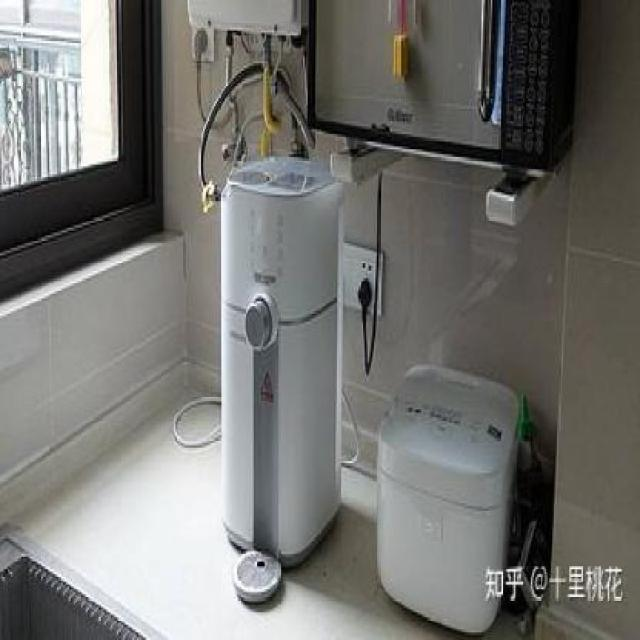cooler: (217, 154, 345, 586)
